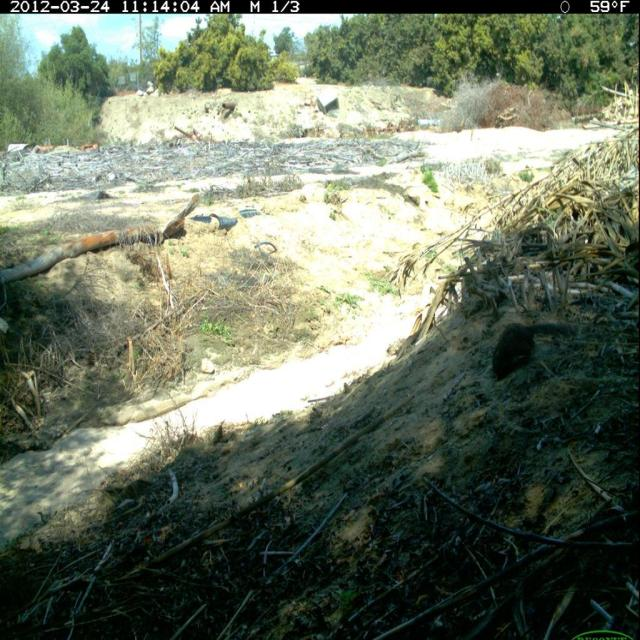squirrel: (486, 312, 573, 389)
